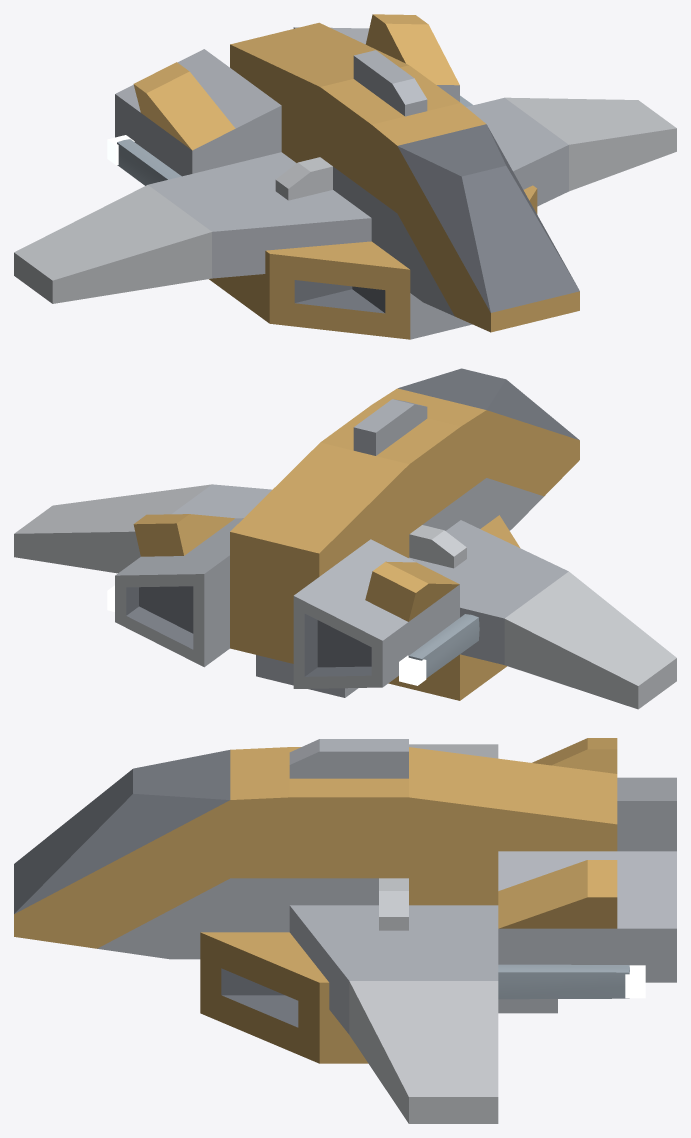
The model's file is npc_escort.glb.
3 views of the same model, one above another, from view 1: azimuth 30°, elevation 25°; view 2: azimuth 150°, elevation 25°; view 3: azimuth 270°, elevation 25° (orthographic). The views are drawn at different scales.
Visible parts, largest first — view 1: npc_escort; view 2: npc_escort; view 3: npc_escort.
Part boxes in pixels (x1,y1,x2,y2): npc_escort: [14, 14, 676, 339]; npc_escort: [14, 368, 676, 709]; npc_escort: [14, 738, 676, 1123].
Size of the model in its own units: 1.84 by 0.5918 by 1.46.
